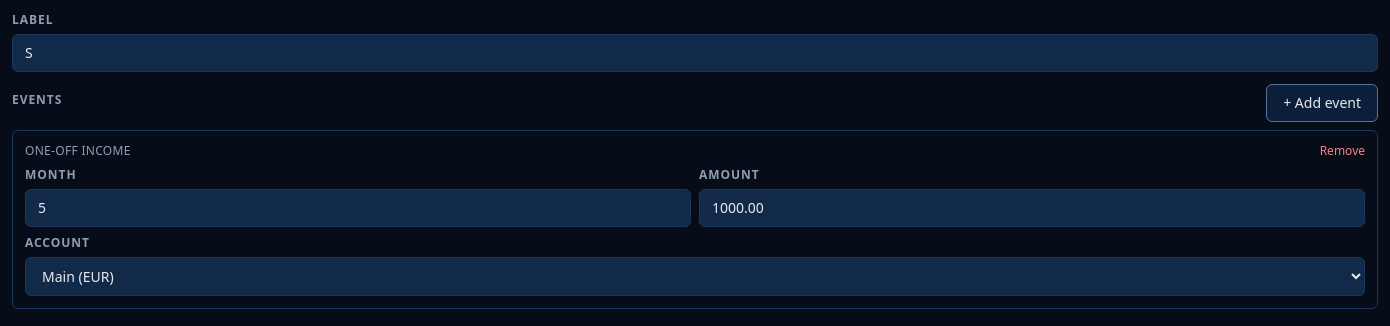
Scenario: CustomParamsEditor › removes an event when the Remove button is clicked
The width and height of the screenshot is (1390, 326).
Check: the list item with test id "custom-event-card-0" is shown, box [12,130,1378,309]
Click the button with test id "custom-event-remove-0": coordinates (1342, 151) [1320,143,1365,159]
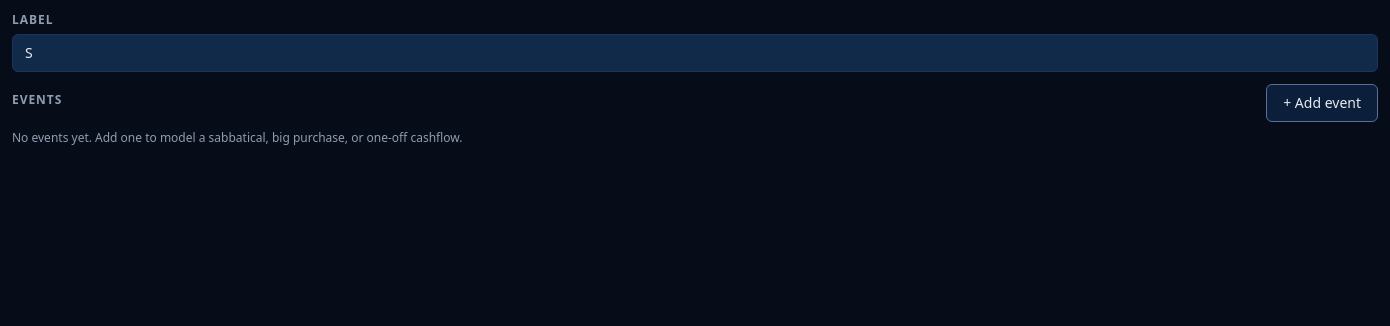
Check: the list item with test id "custom-event-card-0" is gone
